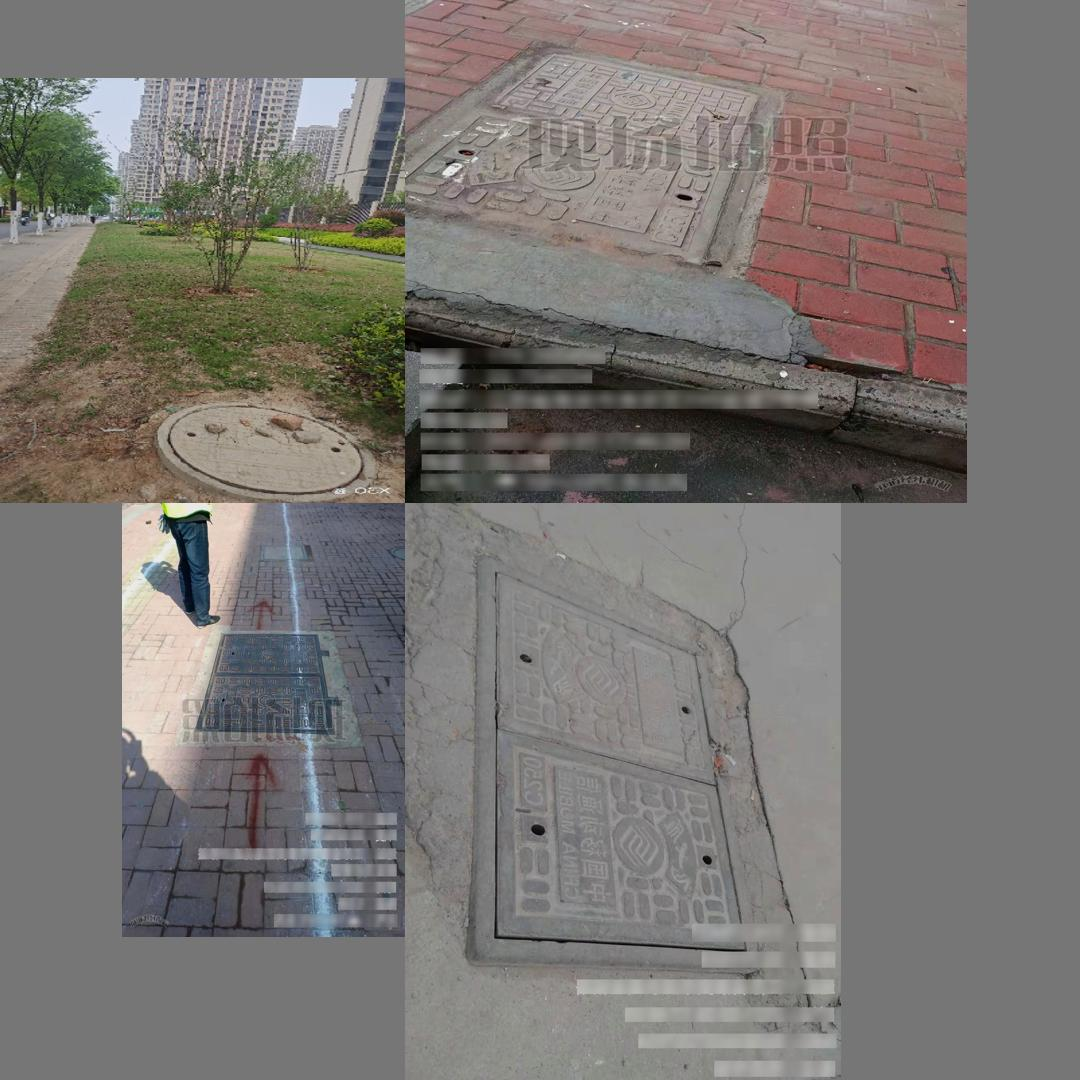good: (466, 557, 768, 969), (407, 48, 772, 268), (152, 401, 376, 503), (192, 631, 340, 733), (260, 543, 308, 560)
